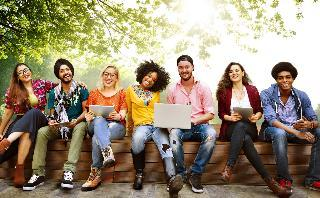person - v3 P: (216, 63, 291, 197), (24, 59, 88, 190), (260, 62, 319, 190), (127, 60, 182, 197), (0, 63, 58, 186), (167, 56, 216, 192), (82, 65, 127, 190)
